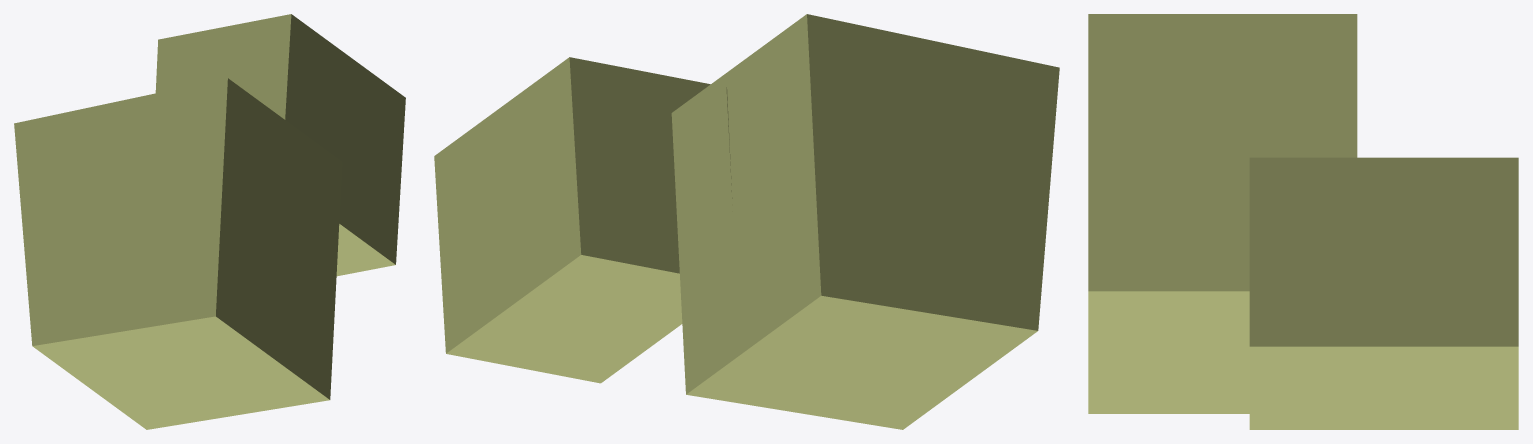
3 renders of one model, left to right at view 1: azimuth 30°, elevation 25°; view 2: azimuth 150°, elevation 25°; view 3: azimuth 270°, elevation 25°, orthographic. The views are drawn at different scales.
Visible parts, largest first — view 1: 0_3_1_3_0_0_0_3_1_1; view 2: 0_3_1_3_0_0_0_3_1_1; view 3: 0_3_1_3_0_0_0_3_1_1.
Boxes of the visible parts, bbox=[...] form: 0_3_1_3_0_0_0_3_1_1: bbox=[14, 14, 405, 429]; 0_3_1_3_0_0_0_3_1_1: bbox=[434, 14, 1059, 429]; 0_3_1_3_0_0_0_3_1_1: bbox=[1088, 14, 1518, 429].
Size of the model in its own units: 15.71 by 10.51 by 14.4.
